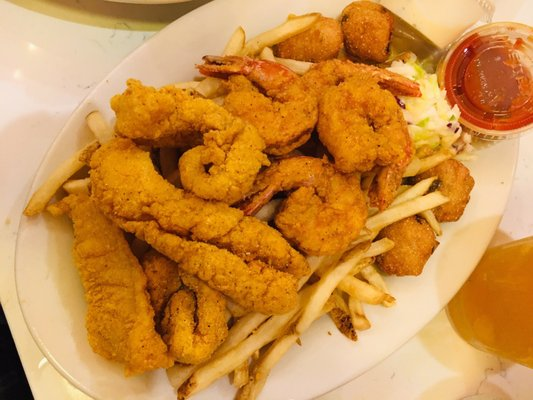pizza: (445, 232, 533, 373)
